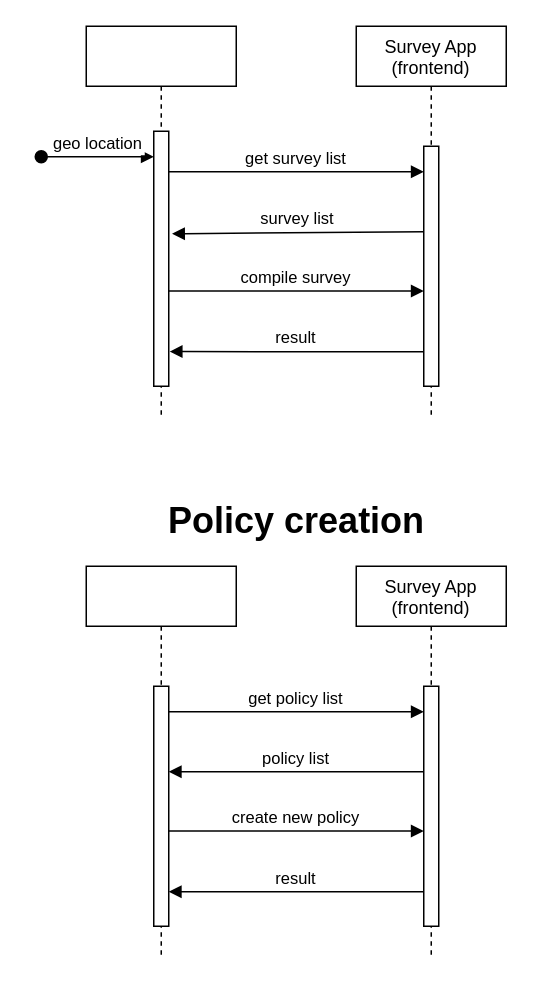
Some shapes in this 533 by 983 pixel diagram are drawn without their labels. The shapes that lost their labels are listed below. From the top down, each one's box as (x1, y1, x2, y2) in pixels, then its label:
(85, 25, 236, 416): Normal user
(85, 565, 236, 956): Policy Maker
